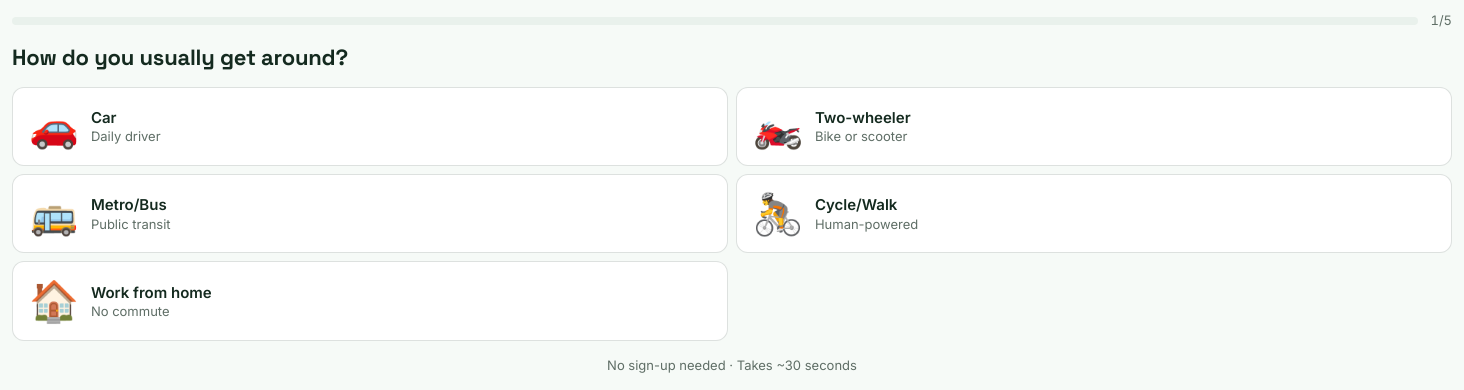
Test: QuizWidget › advances to the next question on answer
Click the button "🚗 Car Daily driver" at (54, 126), box x1=12 y1=87 x2=728 y2=166
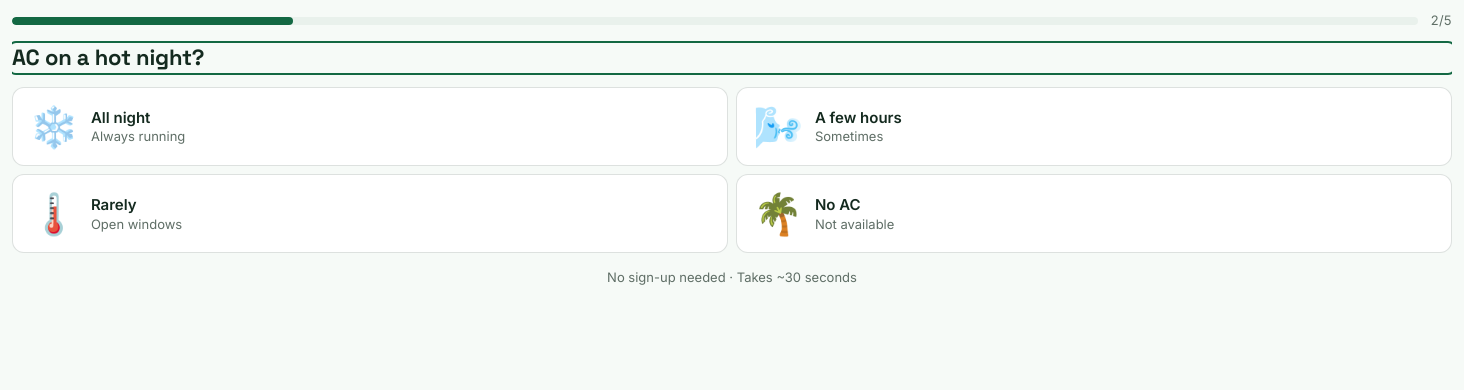
Now the heading "AC on a hot night?" is shown, box x1=12 y1=43 x2=204 y2=71
